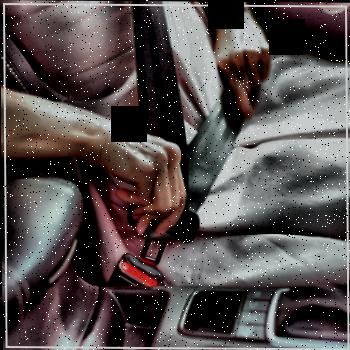seatbelt: (113, 10, 209, 293)
